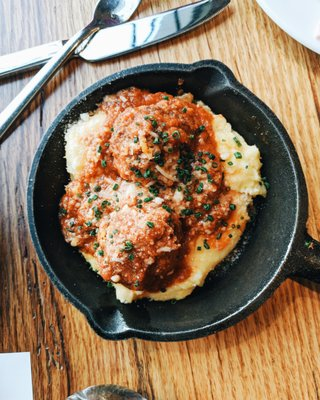burger: (1, 0, 142, 145)
sandwich: (79, 0, 232, 62)
sushi: (0, 54, 311, 391)
